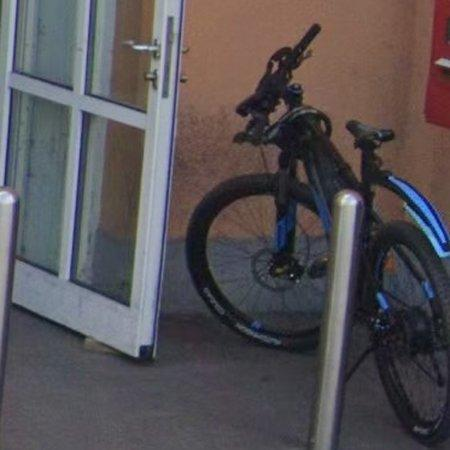bicycles: (189, 24, 450, 444)
